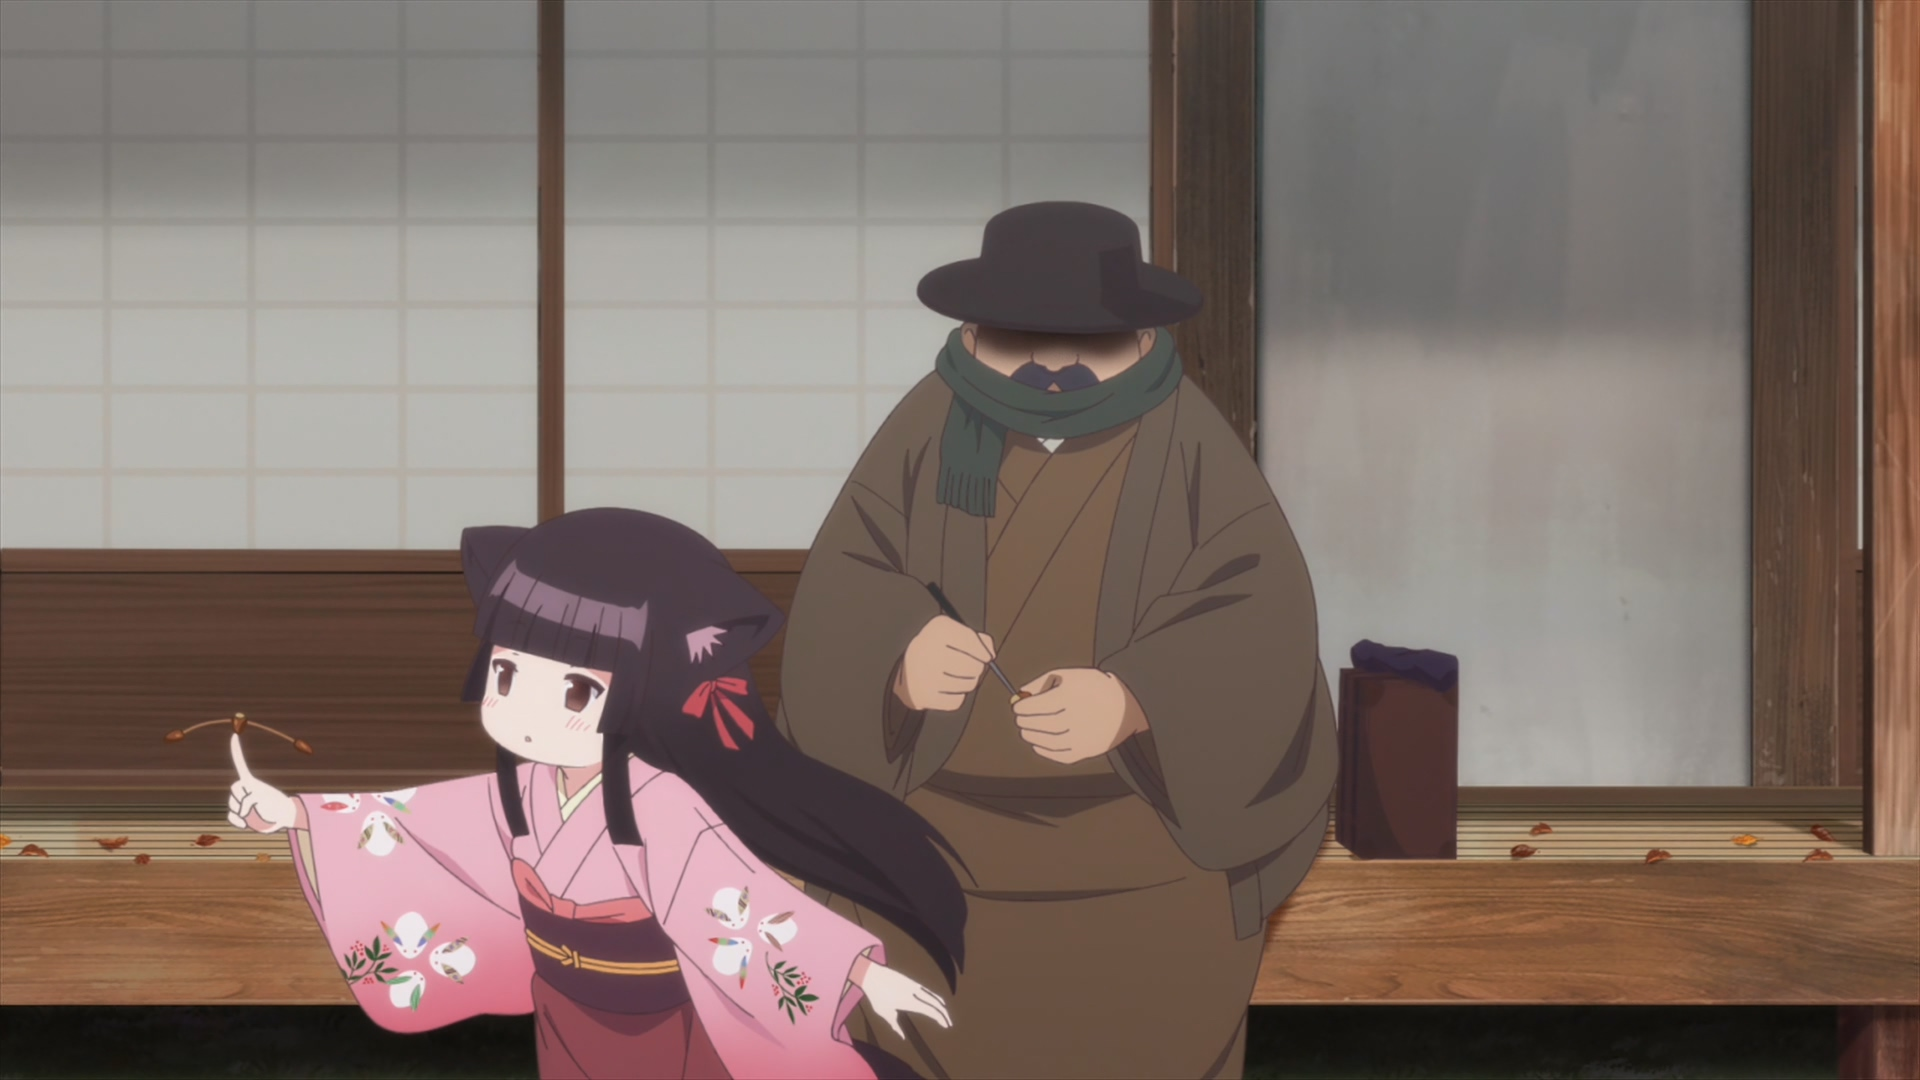其他: (775, 202, 1338, 1080)
樱: (224, 506, 976, 1080)
